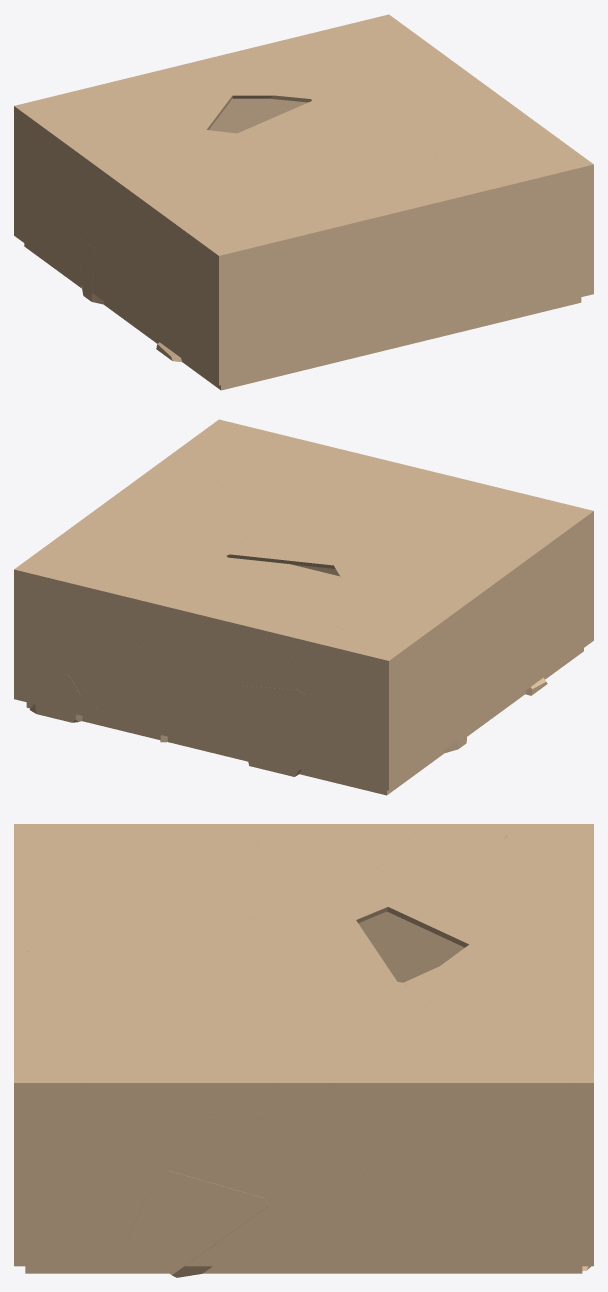
The model's file is room.fbx.
3 views of the same model, one above another, from view 1: azimuth 30°, elevation 25°; view 2: azimuth 150°, elevation 25°; view 3: azimuth 270°, elevation 25° (orthographic). The views are drawn at different scales.
Parts seen in each view (by area): view 1: Cube_cell.072, Cube_cell.071, Cube_cell.031, Cube_cell.028, Cube_cell.025, Cube_cell.016, Cube_cell.024, Cube_cell.012, Cube_cell.014, Cube_cell.029, Cube_cell.001, Cube_cell.092 (+51 smaller); view 2: Cube_cell.079, Cube_cell.063, Cube_cell.028, Cube_cell.016, Cube_cell.100, Cube_cell.092, Cube_cell.012, Cube_cell.120, Cube_cell.029, Cube_cell.005, Cube_cell.033, Cube_cell.081 (+53 smaller); view 3: Cube_cell.126, Cube_cell.107, Cube_cell.028, Cube_cell.016, Cube_cell.098, Cube_cell.119, Cube_cell.029, Cube_cell.064, Cube_cell.074, Cube_cell.092, Cube_cell.005, Cube_cell.075 (+46 smaller).
Part boxes in pixels (left/top/right/bottom): Cube_cell.072: left=241, top=213, right=353, bottom=318; Cube_cell.071: left=430, top=241, right=519, bottom=332; Cube_cell.031: left=384, top=169, right=480, bottom=256; Cube_cell.028: left=146, top=130, right=280, bottom=185; Cube_cell.025: left=478, top=159, right=562, bottom=272; Cube_cell.016: left=237, top=101, right=354, bottom=167; Cube_cell.024: left=365, top=248, right=437, bottom=353; Cube_cell.012: left=76, top=145, right=152, bottom=252; Cube_cell.014: left=276, top=183, right=406, bottom=266; Cube_cell.029: left=161, top=179, right=286, bottom=227; Cube_cell.001: left=289, top=260, right=384, bottom=337; Cube_cell.092: left=236, top=41, right=334, bottom=102; Cube_cell.079: left=134, top=611, right=243, bottom=703; Cube_cell.063: left=68, top=634, right=163, bottom=739; Cube_cell.028: left=334, top=533, right=477, bottom=590; Cube_cell.016: left=227, top=516, right=378, bottom=568; Cube_cell.100: left=234, top=686, right=305, bottom=776; Cube_cell.092: left=125, top=555, right=237, bottom=637; Cube_cell.012: left=413, top=572, right=500, bottom=678; Cube_cell.120: left=160, top=693, right=247, bottom=761; Cube_cell.029: left=416, top=507, right=524, bottom=566; Cube_cell.005: left=143, top=502, right=222, bottom=556; Cube_cell.033: left=231, top=618, right=302, bottom=689; Cube_cell.081: left=299, top=731, right=397, bottom=795; Cube_cell.126: left=335, top=1108, right=509, bottom=1261; Cube_cell.107: left=54, top=1056, right=168, bottom=1196; Cube_cell.028: left=205, top=843, right=393, bottom=923; Cube_cell.016: left=203, top=919, right=397, bottom=986; Cube_cell.098: left=152, top=1037, right=298, bottom=1120; Cube_cell.119: left=127, top=1171, right=269, bottom=1277; Cube_cell.029: left=70, top=841, right=257, bottom=903; Cube_cell.064: left=263, top=1128, right=373, bottom=1240; Cube_cell.074: left=416, top=1181, right=571, bottom=1273; Cube_cell.092: left=404, top=966, right=593, bottom=1016; Cube_cell.005: left=281, top=987, right=450, bottom=1053; Cube_cell.075: left=163, top=1109, right=274, bottom=1197.
Size of the model in its own units: 30175 by 10692 by 28566.
